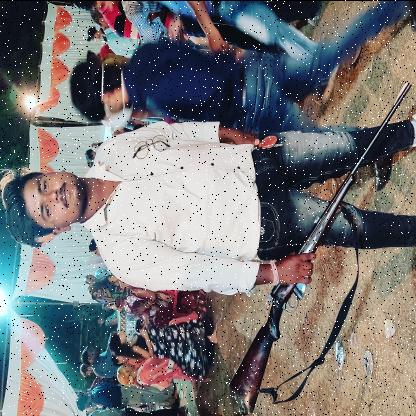rifle: (228, 79, 414, 409)
